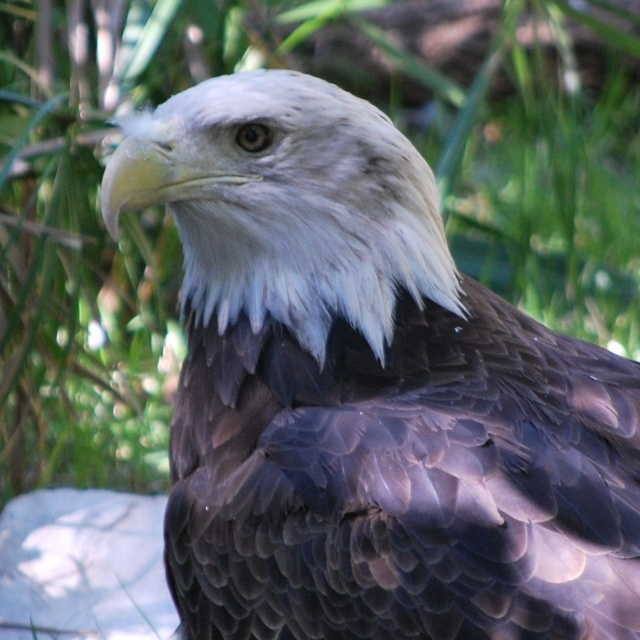Eagle: (100, 65, 640, 639)
